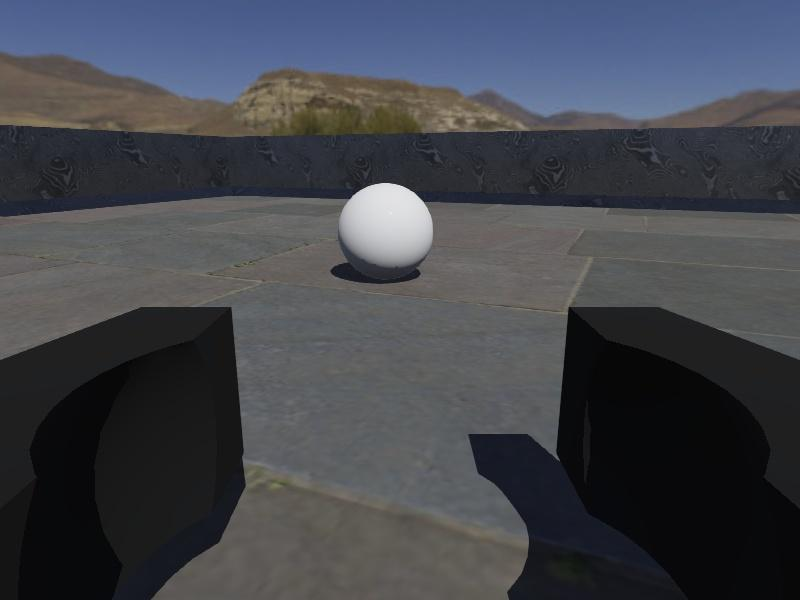white ball: (337, 182, 435, 283)
